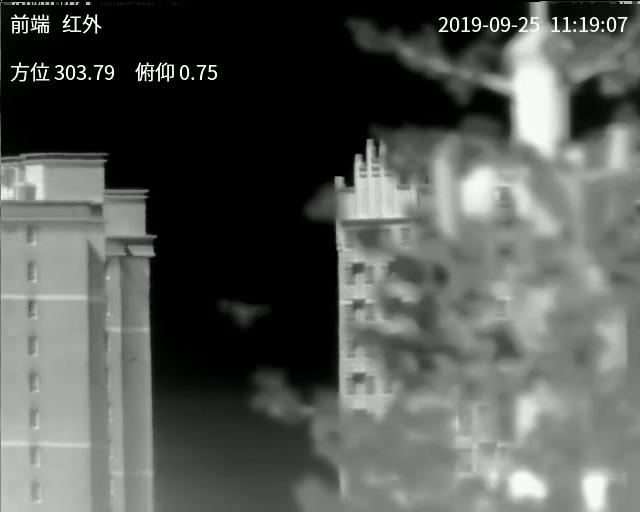uav: (214, 294, 261, 333)
